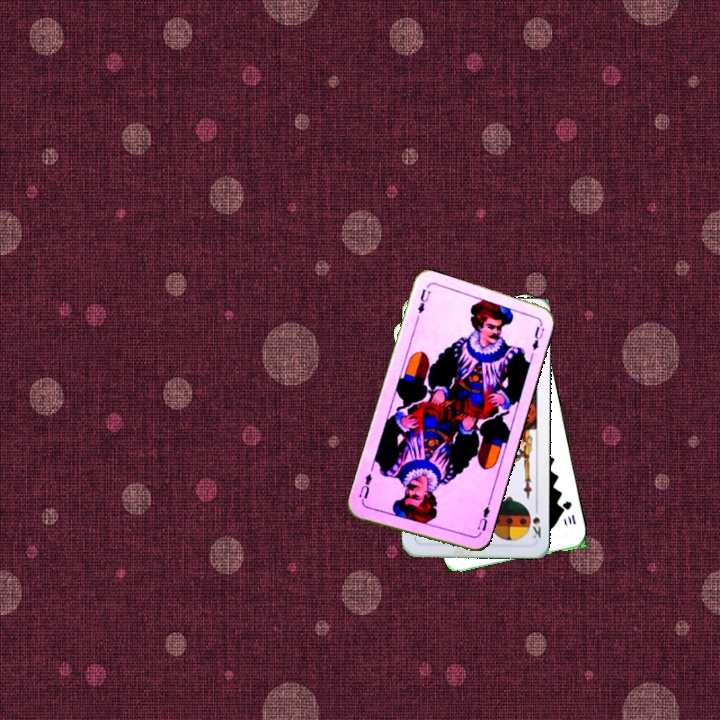EU: (473, 500, 492, 534), (414, 285, 433, 316)
G10: (559, 497, 578, 528)
SK: (527, 502, 543, 541)
